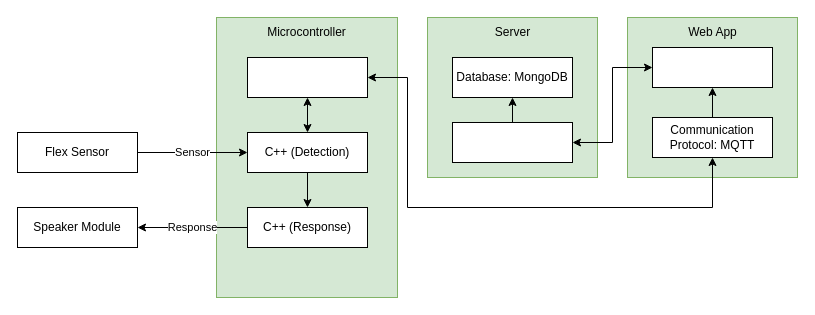
Image size: 815x315. Some labels were removed from this diagram. Each missing label, with the box of its shape:
API: NodeJs: (452, 122, 572, 162)
ESP32: (246, 56, 368, 98)
ReactJs: (652, 46, 772, 88)
